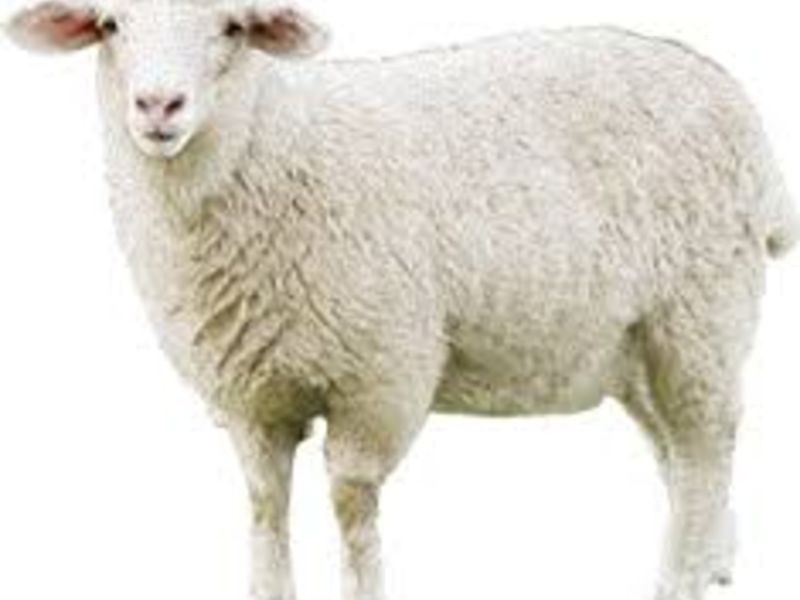sheep: (17, 1, 798, 600)
